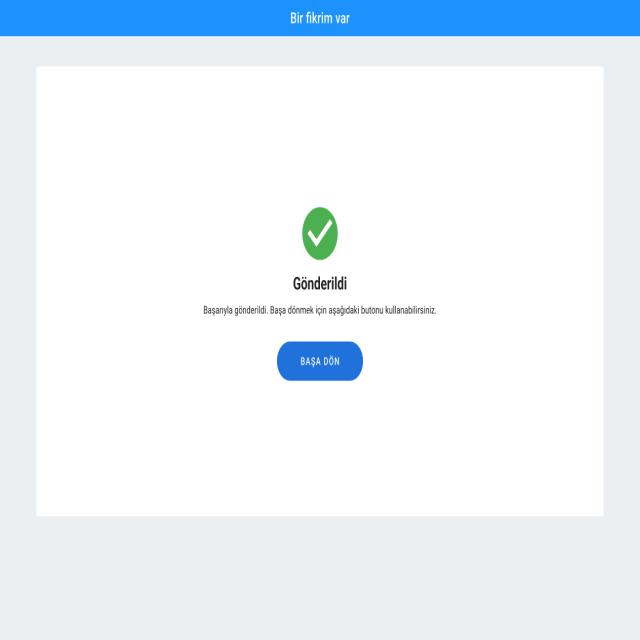QLabel: (202, 304, 438, 317), (288, 11, 351, 27), (292, 275, 348, 293), (297, 354, 341, 370)
VAppBar: (0, 0, 640, 35)
VBtn: (276, 340, 364, 382)
VCard: (36, 66, 604, 518)
VIcon: (301, 208, 338, 261)
